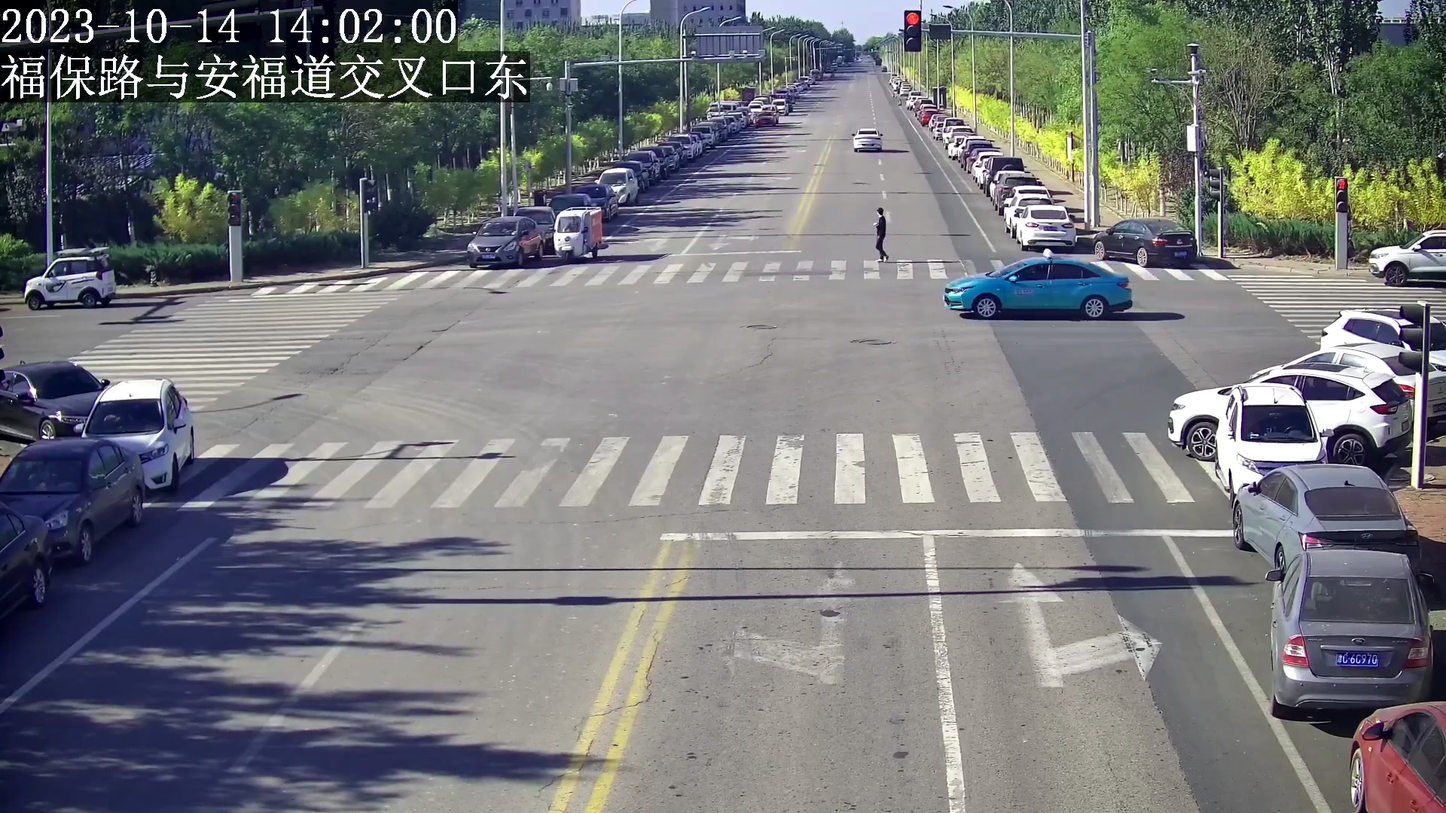person: (871, 204, 890, 263)
vehicle: (1264, 547, 1433, 712), (1163, 361, 1410, 455), (1231, 462, 1423, 565), (2, 434, 145, 559), (81, 373, 197, 491), (1213, 383, 1329, 489), (944, 251, 1132, 316), (1346, 699, 1445, 813), (0, 361, 107, 441), (1094, 217, 1197, 263), (24, 254, 114, 306), (1370, 228, 1445, 285), (463, 215, 541, 266), (551, 205, 608, 263), (1013, 201, 1078, 247), (850, 124, 883, 154)
